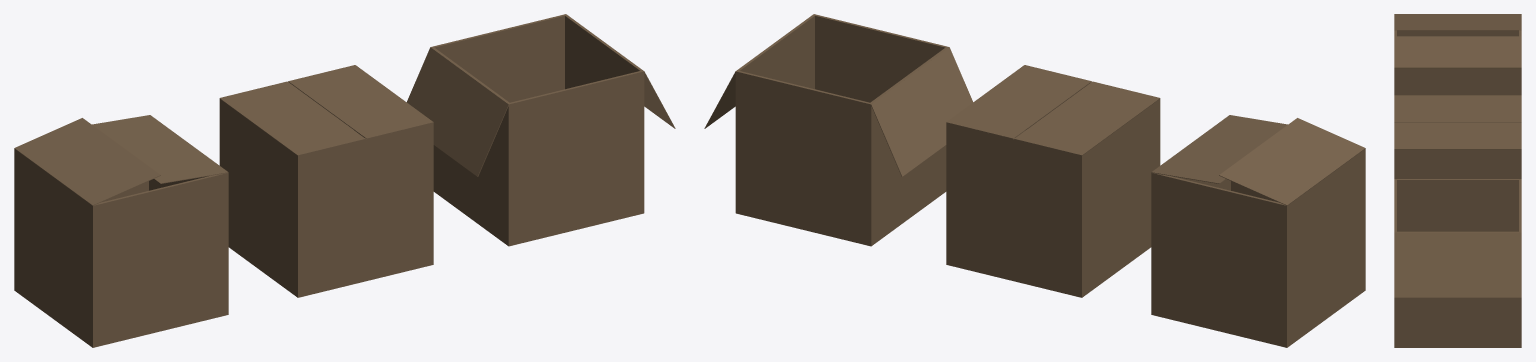
Rendered from Boxes.fbx.
3 views of the same model, side by side, from view 1: azimuth 30°, elevation 25°; view 2: azimuth 150°, elevation 25°; view 3: azimuth 270°, elevation 25° (orthographic). The views are drawn at different scales.
Visible parts, largest first — view 1: BoxVariant3, BoxVariant1, BoxVariant2; view 2: BoxVariant3, BoxVariant1, BoxVariant2; view 3: BoxVariant3, BoxVariant2, BoxVariant1.
Part boxes in pixels (x1,y1,x2,y2): BoxVariant3: (406,14,675,246); BoxVariant1: (14,115,228,347); BoxVariant2: (219,65,433,297); BoxVariant3: (704,14,973,246); BoxVariant1: (1151,115,1365,347); BoxVariant2: (946,65,1160,297); BoxVariant3: (1394,179,1521,347); BoxVariant2: (1394,95,1521,178); BoxVariant1: (1394,14,1521,95).
Bounding box in the file's own units: 215 × 55 × 50.
